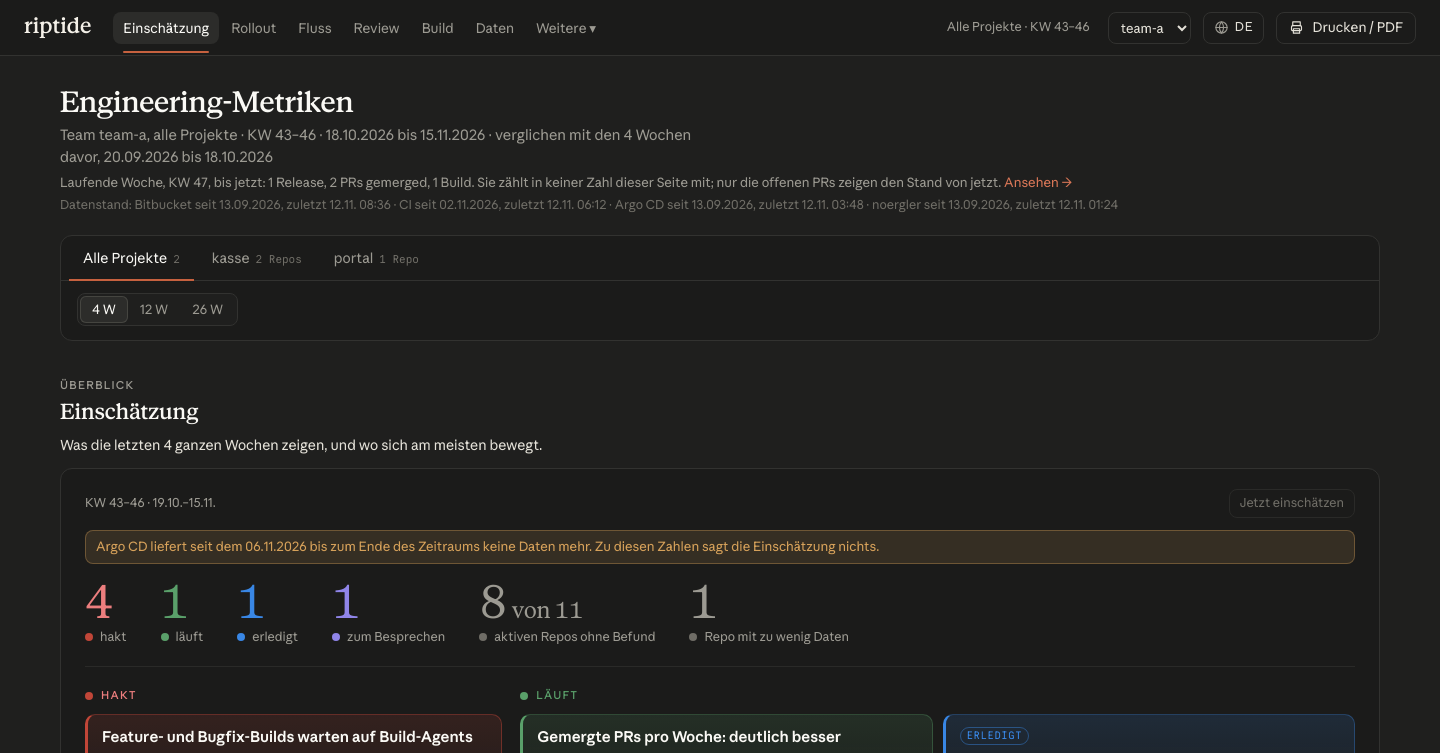
Test case: App › says an ask failed for its view only
Click the button "Jetzt einschätzen" at (1292, 504), box [1229, 489, 1355, 518]
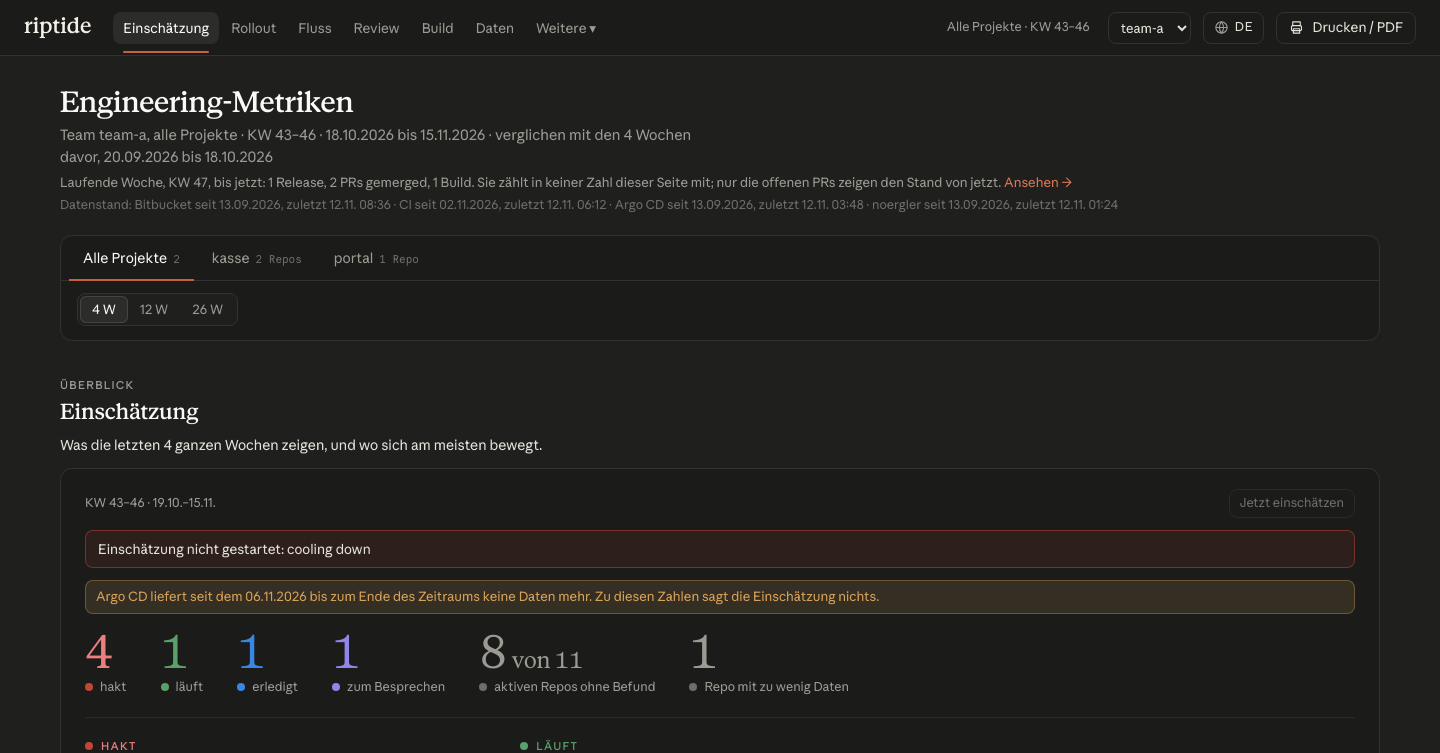
Now the text "Einschätzung nicht gestartet: cooling down" is shown, box [85, 530, 1355, 568]
Click the button "12 W" at (154, 310), box [128, 296, 180, 323]
(page scrolled)
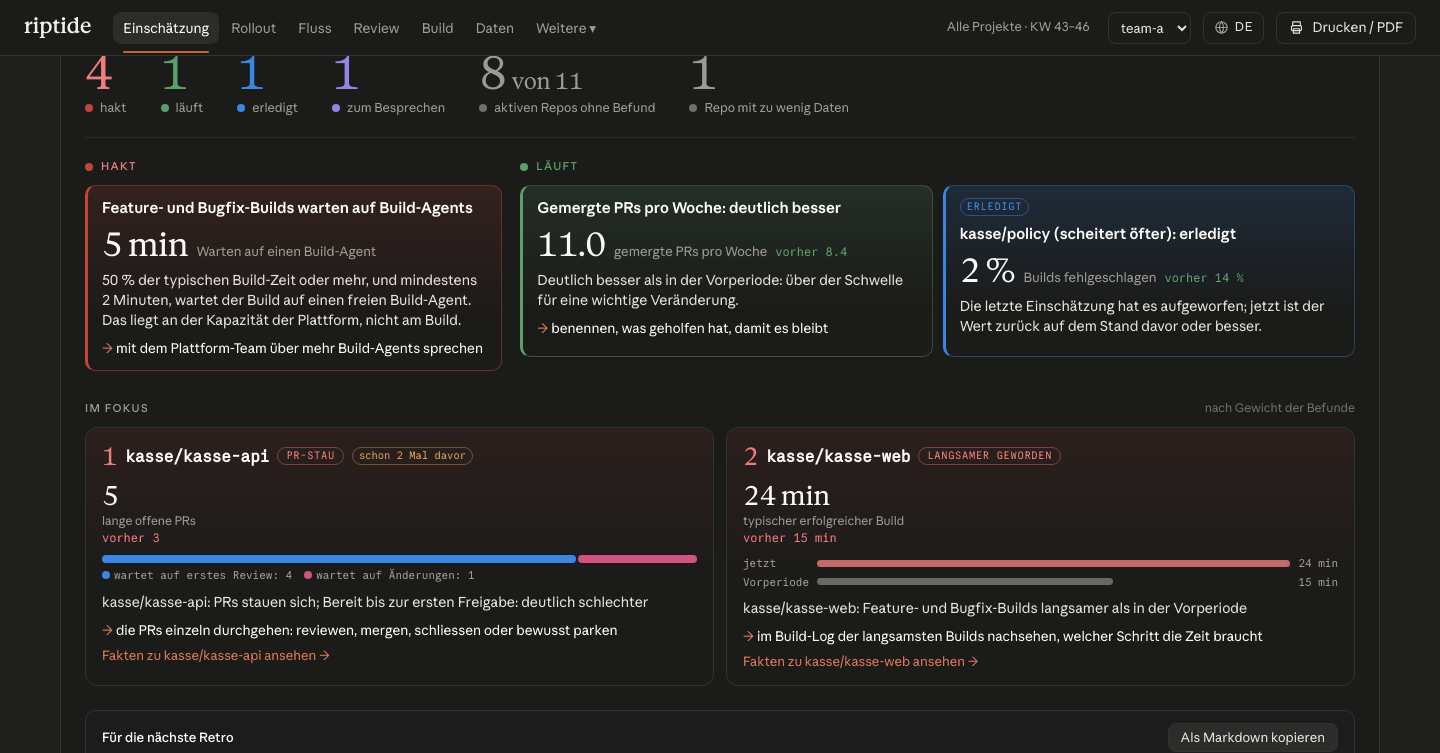
Now the text "Einschätzung nicht gestartet" is gone
